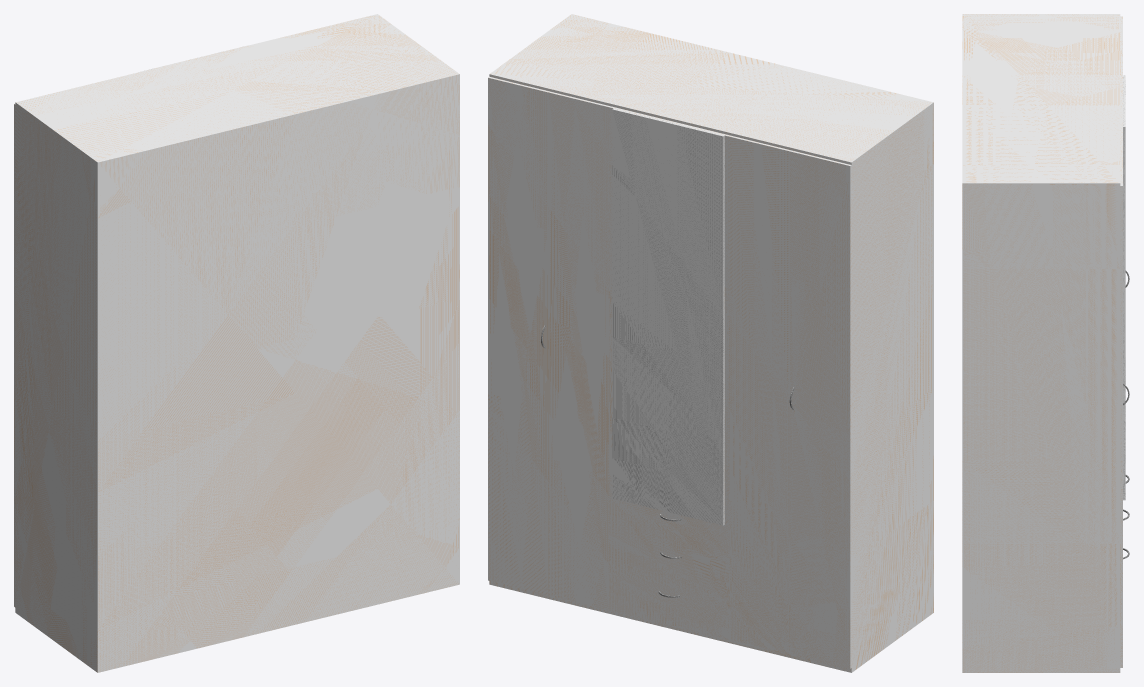
3 views of the same model, side by side, from view 1: azimuth 30°, elevation 25°; view 2: azimuth 150°, elevation 25°; view 3: azimuth 270°, elevation 25° (orthographic). The views are drawn at different scales.
Parts seen in each view (by area): view 1: mesh2_mesh2-geometry; view 2: mesh2_mesh2-geometry; view 3: mesh2_mesh2-geometry.
Part boxes in pixels (x1,y1,x2,y2): mesh2_mesh2-geometry: [14, 14, 459, 672]; mesh2_mesh2-geometry: [488, 14, 933, 672]; mesh2_mesh2-geometry: [962, 14, 1129, 672].
Size of the model in its own units: 0.5786 by 0.7792 by 0.2411.
